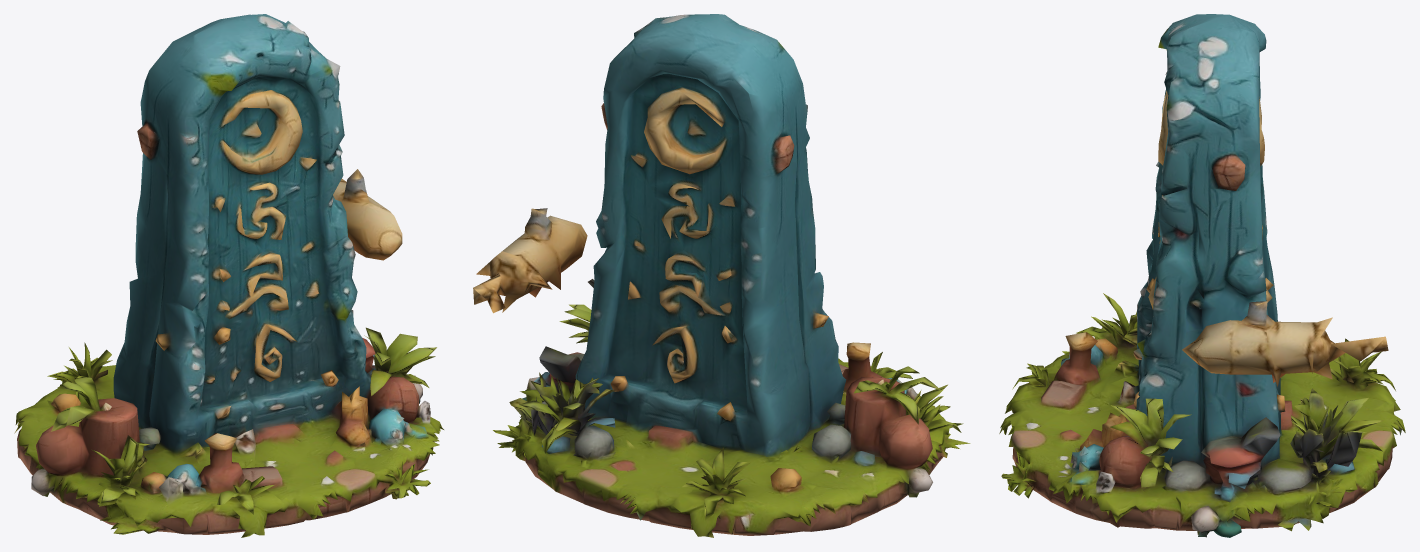
The model's file is tide-marker.glb.
The picture shows the model from 3 angles, left to right: view 1: azimuth 30°, elevation 25°; view 2: azimuth 150°, elevation 25°; view 3: azimuth 270°, elevation 25°; orthographic projection. The views are drawn at different scales.
Visible parts, largest first — view 1: tripo_node_2f79988b-849d-40bc-b9c6-71af30c89fc8; view 2: tripo_node_2f79988b-849d-40bc-b9c6-71af30c89fc8; view 3: tripo_node_2f79988b-849d-40bc-b9c6-71af30c89fc8.
Boxes of the visible parts, bbox=[...] form: tripo_node_2f79988b-849d-40bc-b9c6-71af30c89fc8: bbox=[14, 14, 443, 537]; tripo_node_2f79988b-849d-40bc-b9c6-71af30c89fc8: bbox=[473, 14, 970, 537]; tripo_node_2f79988b-849d-40bc-b9c6-71af30c89fc8: bbox=[999, 14, 1405, 537].
Bounding box in the file's own units: 2.91 × 3 × 2.57.
Materials: 1 (1 with a texture image).
